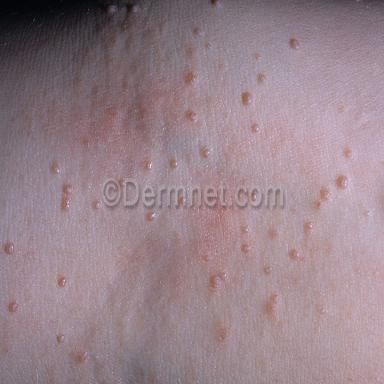Molluscum-Contagiosum: (210, 273, 221, 290), (336, 175, 348, 189), (241, 91, 252, 106), (8, 300, 19, 313), (186, 109, 197, 122), (61, 197, 71, 211), (289, 38, 299, 50), (5, 242, 14, 255), (289, 249, 299, 260), (58, 275, 67, 287), (52, 162, 60, 175), (63, 184, 73, 194), (146, 211, 156, 221), (92, 200, 101, 210), (241, 244, 250, 254), (271, 293, 279, 304), (202, 147, 210, 158), (80, 352, 88, 362), (264, 265, 272, 275), (251, 123, 259, 133), (258, 73, 266, 83), (57, 334, 65, 343), (221, 272, 229, 281), (241, 225, 249, 234), (145, 161, 153, 170), (195, 27, 203, 36), (170, 158, 177, 168), (203, 254, 211, 262), (306, 221, 313, 229), (319, 308, 325, 315), (365, 210, 371, 216), (257, 53, 261, 60)
